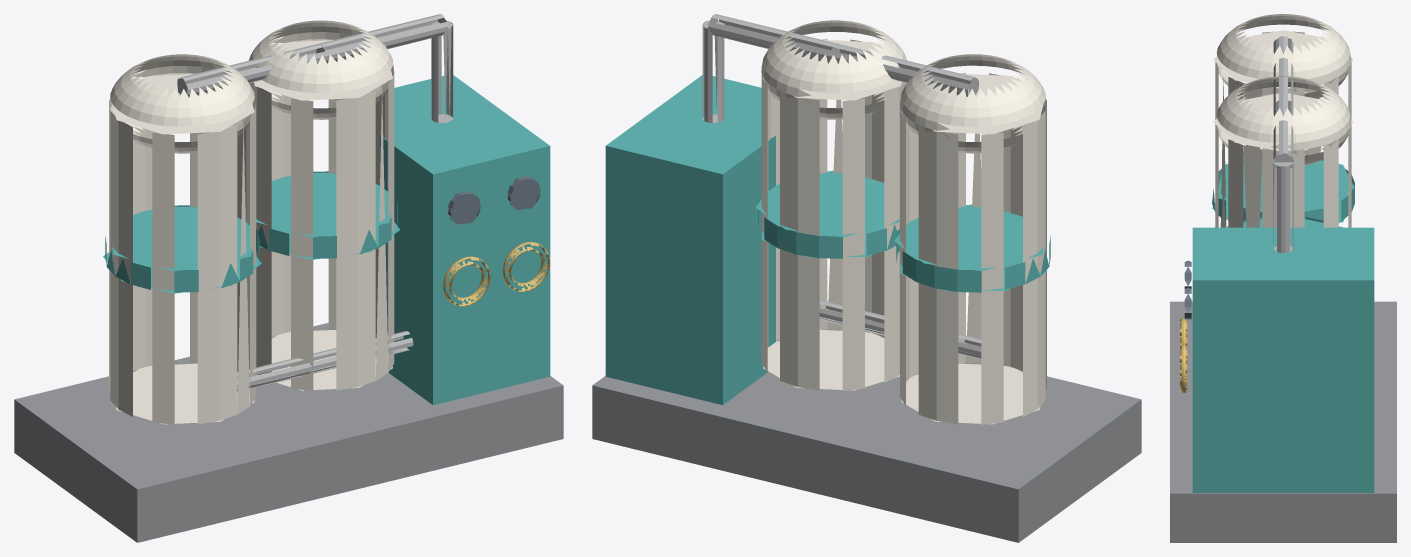
Rendered from life-support-lod1.glb.
3 renders of one model, left to right at view 1: azimuth 30°, elevation 25°; view 2: azimuth 150°, elevation 25°; view 3: azimuth 270°, elevation 25°, orthographic. The views are drawn at different scales.
Parts seen in each view (by area): view 1: Base, PumpBlock, Tank, Tank.001, TankCap, TankCap.001, TankBand, TankBand.001, Pipe, PipeLow, PipeDrop, Valve (+3 smaller); view 2: Base, PumpBlock, Tank, Tank.001, TankCap, TankCap.001, TankBand, TankBand.001, Pipe, PipeDrop, Pipe.001, PipeLow; view 3: PumpBlock, Base, Tank.001, TankCap.001, TankCap, Tank, TankBand, Pipe, PipeDrop, Valve.001.
Boxes of the visible parts, x1,y1,x2,y2 form: Base: (14, 323, 563, 542); PumpBlock: (380, 75, 550, 405); Tank: (109, 73, 255, 424); Tank.001: (249, 39, 394, 390); TankCap: (110, 54, 254, 153); TankCap.001: (249, 20, 393, 119); TankBand: (103, 205, 261, 293); TankBand.001: (256, 171, 400, 259); Pipe: (177, 14, 447, 97); PipeLow: (237, 331, 413, 391); PipeDrop: (431, 20, 453, 122); Valve: (443, 256, 490, 306); Base: (592, 323, 1141, 542); PumpBlock: (605, 75, 779, 405); Tank: (900, 73, 1046, 424); Tank.001: (761, 39, 906, 390); TankCap: (900, 54, 1045, 153); TankCap.001: (761, 20, 907, 119); TankBand: (894, 204, 1050, 292); TankBand.001: (755, 170, 899, 258); Pipe: (710, 14, 978, 97); PipeDrop: (702, 20, 724, 122); Pipe.001: (708, 18, 840, 63); PipeLow: (819, 300, 981, 359); PumpBlock: (1192, 227, 1374, 492); Base: (1170, 301, 1396, 542); Tank.001: (1213, 93, 1353, 227); TankCap.001: (1216, 76, 1351, 165); TankCap: (1216, 14, 1351, 98); Tank: (1213, 30, 1353, 227); TankBand: (1212, 155, 1354, 222); Pipe: (1273, 36, 1293, 168); PipeDrop: (1273, 161, 1293, 252); Valve.001: (1180, 344, 1187, 393).
Bounding box in the file's own units: 2 × 1.8 × 1.
